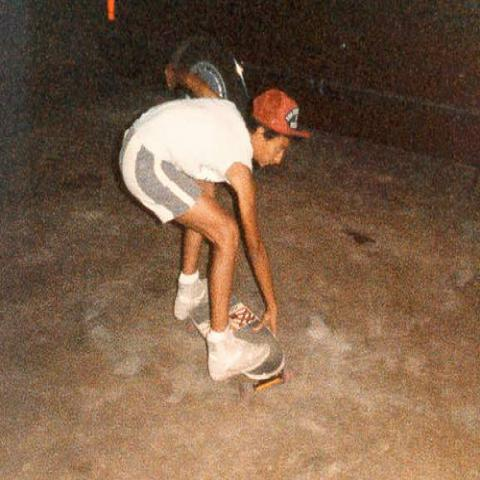car: (114, 0, 479, 174)
